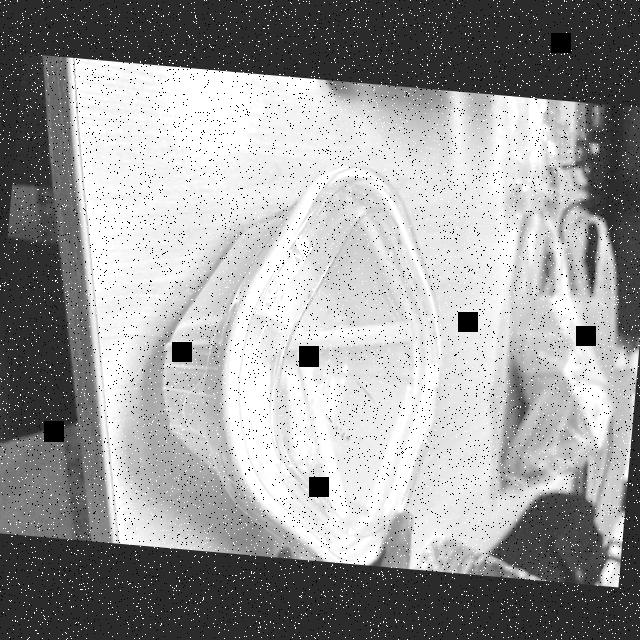plastic_box: (135, 150, 462, 570)
